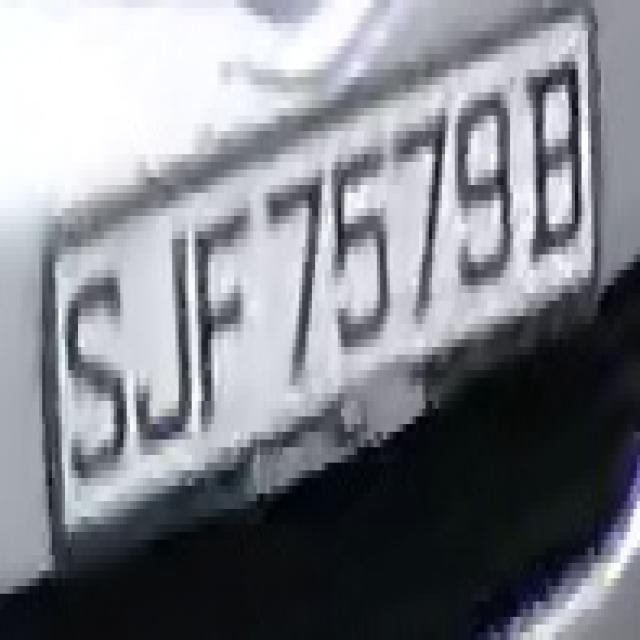5: (328, 100, 393, 378)
7: (257, 138, 328, 408), (380, 108, 455, 339)
9: (448, 85, 523, 308)
B: (520, 46, 588, 270)
F: (185, 177, 257, 432)
J: (124, 208, 198, 463)
S: (52, 239, 133, 524)
